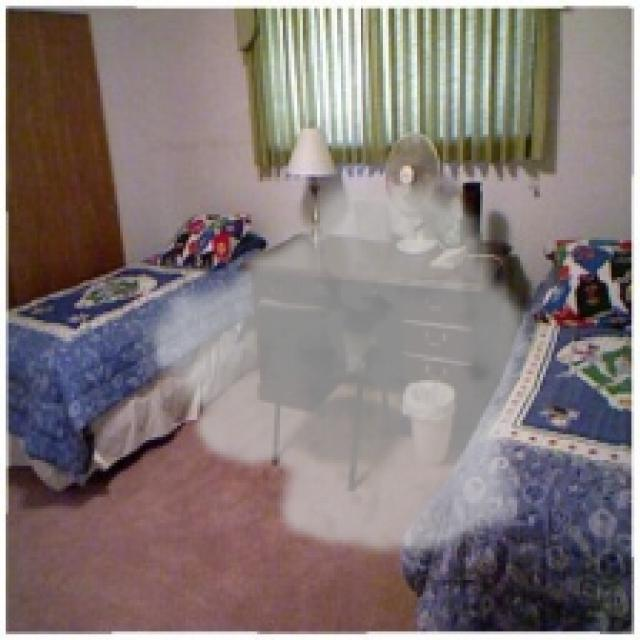Smoke: (135, 168, 534, 563)
